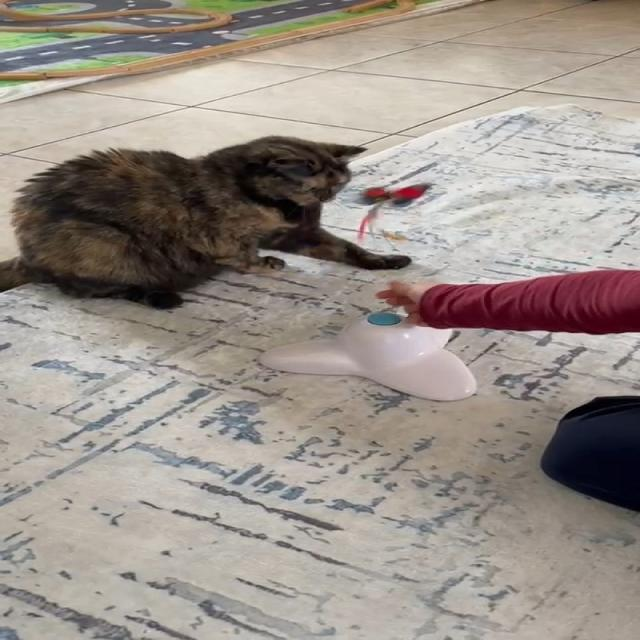authorized: (0, 133, 411, 310)
